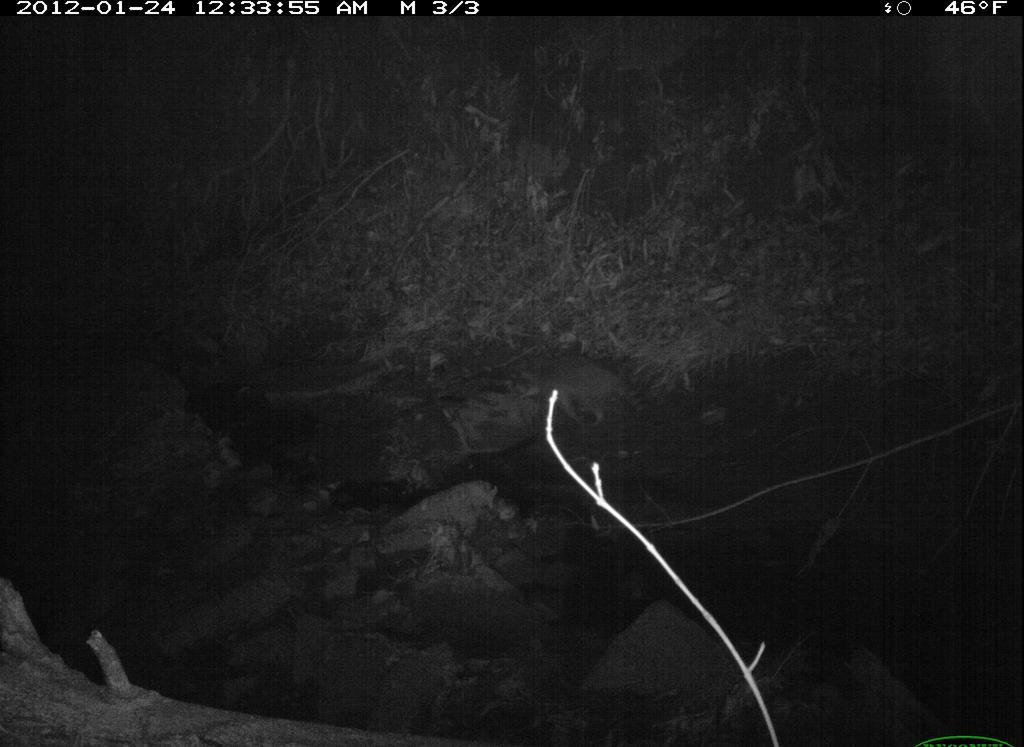raccoon: (510, 354, 657, 436)
